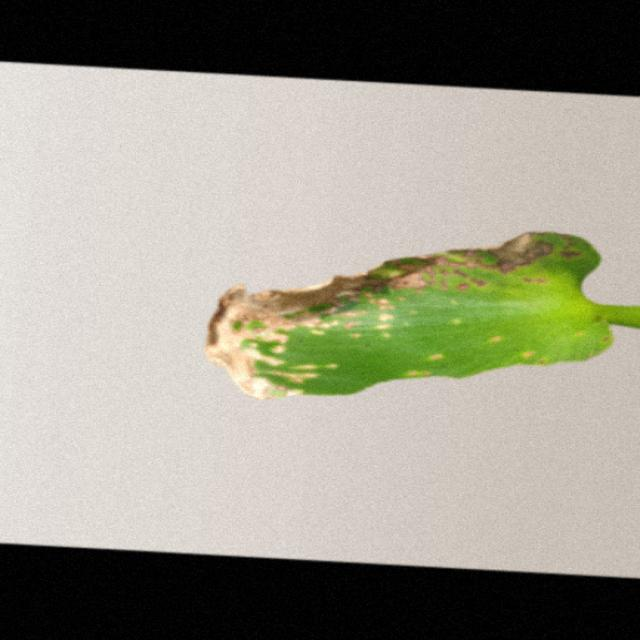daun berpenyakit bercak: (207, 232, 638, 398)
